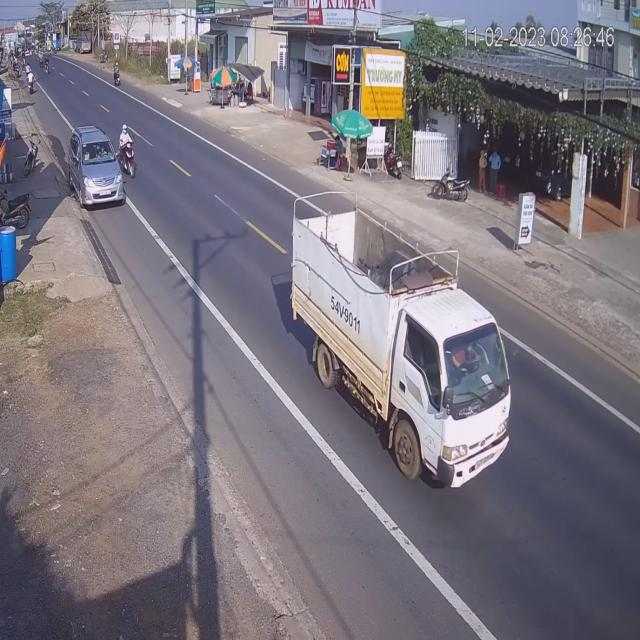car: (67, 128, 124, 210)
motorbike: (118, 122, 136, 176), (113, 65, 120, 89)
truck: (290, 190, 514, 492)
